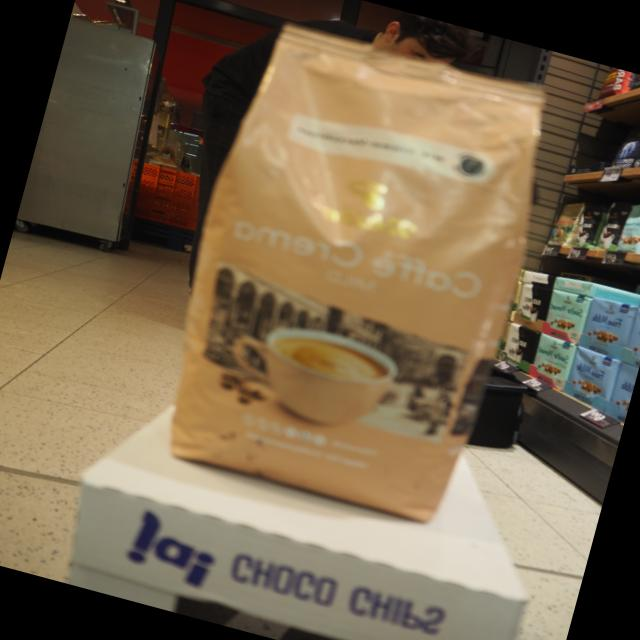CC Mild: (141, 11, 566, 529)
